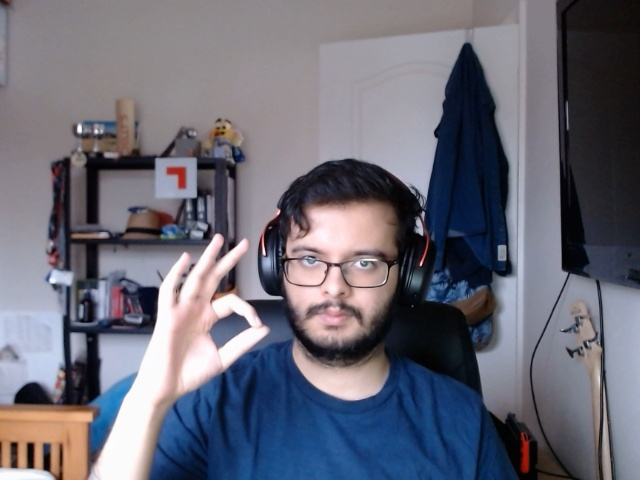Okay: (124, 231, 275, 409)
